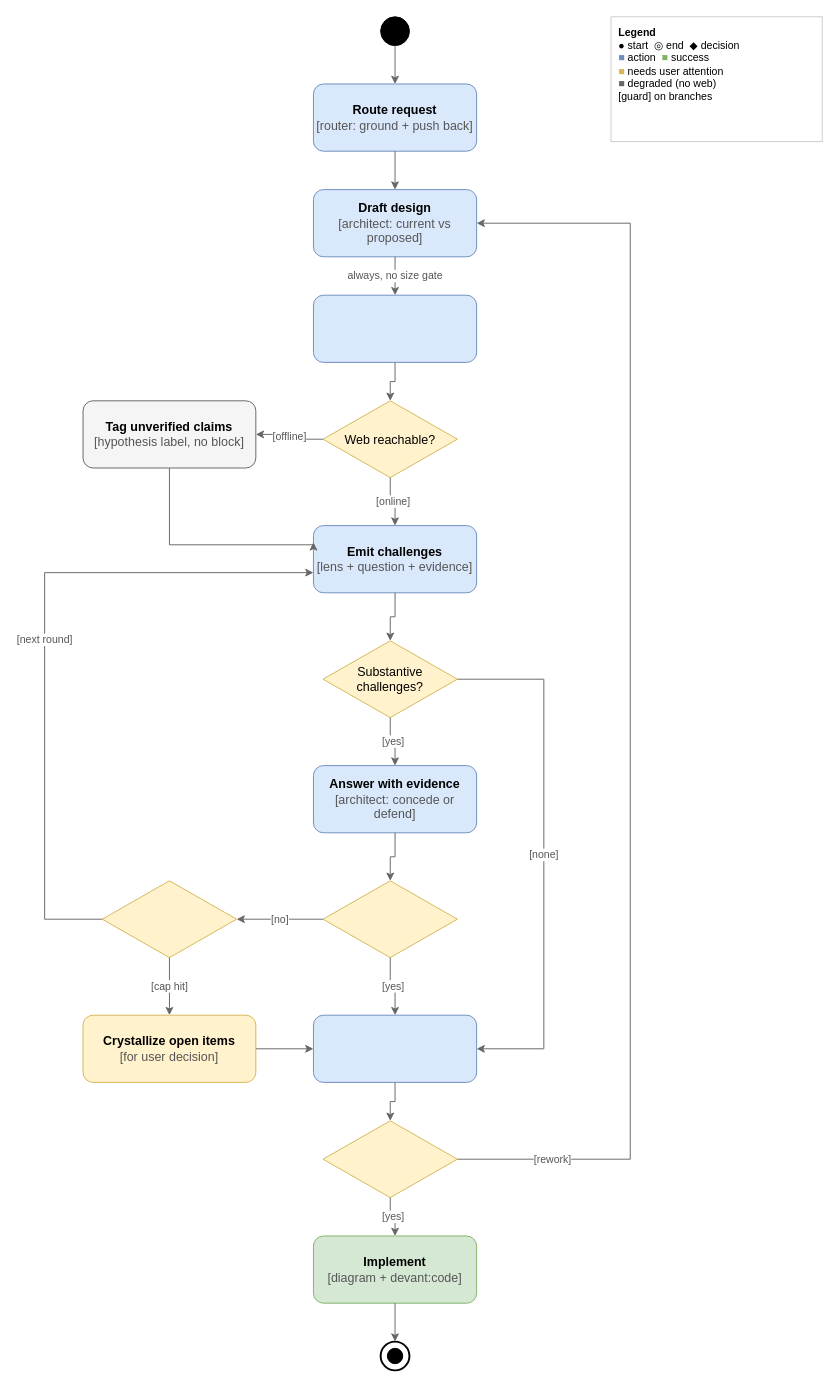
Some shapes in this 839 by 1388 pixel diagram are drawn without their labels. Each missing label, with the box of its shape:
Both sides accept?: (322, 880, 457, 958)
Present approval gate [conceded / defended / open]: (312, 1014, 477, 1082)
Re-ground independently [debate: fork, read-only]: (312, 294, 477, 362)
Round below 3?: (101, 880, 237, 958)
User approves?: (322, 1120, 457, 1198)
